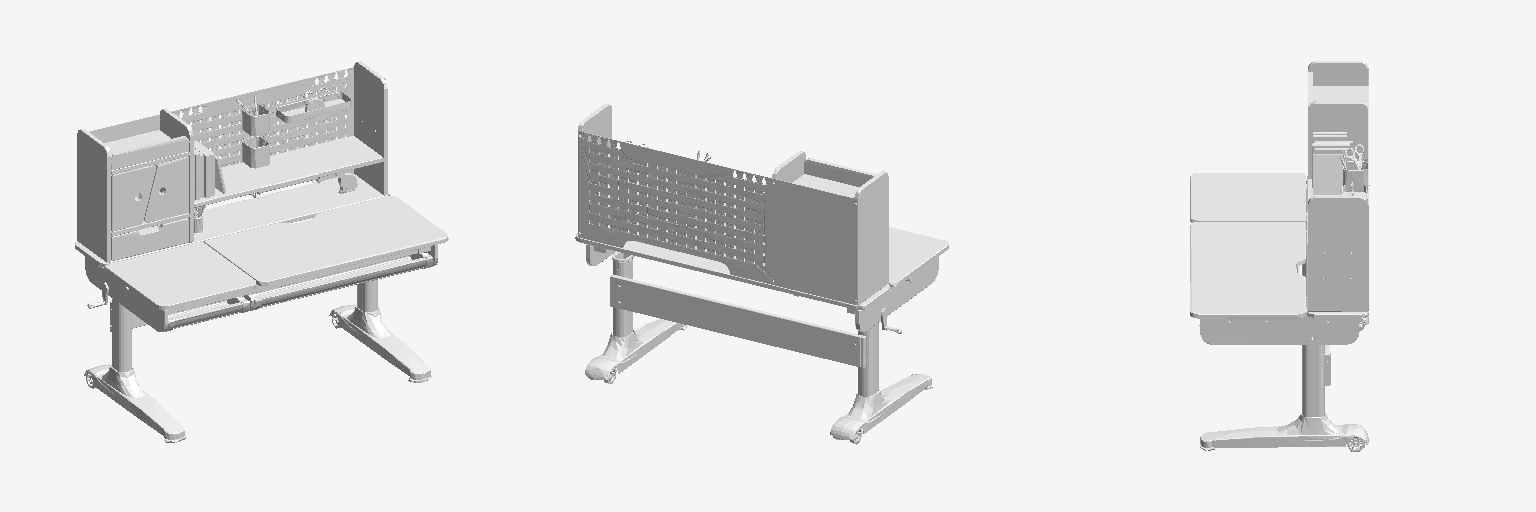
The model's file is raw_model.obj.
3 views of the same model, side by side, from view 1: azimuth 30°, elevation 25°; view 2: azimuth 150°, elevation 25°; view 3: azimuth 270°, elevation 25° (orthographic).
Parts seen in each view (by area): view 1: solid_009, solid_004, solid_006, solid_001, solid_005, solid_010, solid_002, solid_021, solid_022; view 2: solid_004, solid_009, solid_001, solid_002, solid_006; view 3: solid_009, solid_001, solid_002, solid_037.
Part boxes in pixels (bbox=[...]): solid_009: bbox=[75, 61, 448, 331]; solid_004: bbox=[89, 67, 430, 314]; solid_006: bbox=[111, 136, 425, 327]; solid_001: bbox=[84, 280, 430, 439]; solid_005: bbox=[110, 90, 351, 326]; solid_010: bbox=[164, 253, 433, 331]; solid_002: bbox=[86, 305, 431, 442]; solid_021: bbox=[242, 136, 269, 168]; solid_022: bbox=[242, 104, 269, 136]; solid_004: bbox=[578, 131, 857, 313]; solid_009: bbox=[575, 104, 948, 367]; solid_001: bbox=[585, 259, 931, 439]; solid_002: bbox=[587, 252, 932, 444]; solid_006: bbox=[804, 158, 876, 186]; solid_009: bbox=[1190, 61, 1368, 361]; solid_001: bbox=[1200, 224, 1368, 447]; solid_002: bbox=[1199, 213, 1364, 451]; solid_037: bbox=[1313, 155, 1346, 194].
Size of the model in its own units: 1.17 by 0.9592 by 0.604.